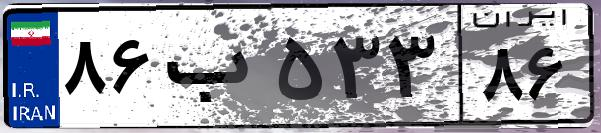3: (385, 28, 445, 110), (330, 28, 385, 110)
5: (270, 28, 330, 110)
6: (525, 38, 570, 115), (110, 28, 158, 98)
8: (57, 26, 110, 100), (475, 38, 525, 113)
ب: (158, 20, 270, 120)
